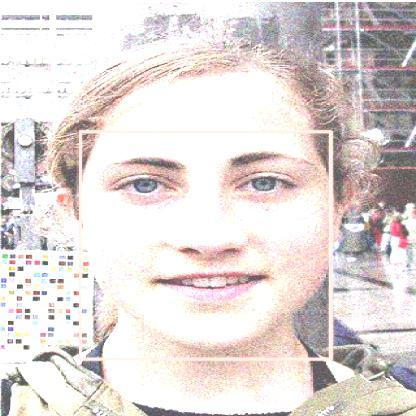without_mask: (80, 131, 331, 359)
